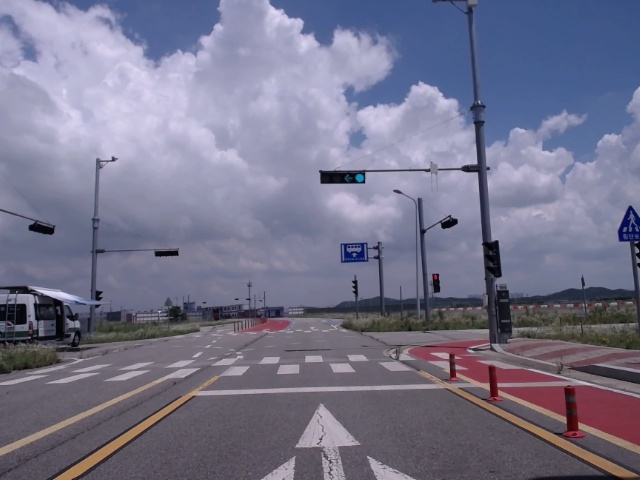all_green_4: (319, 172, 364, 183)
